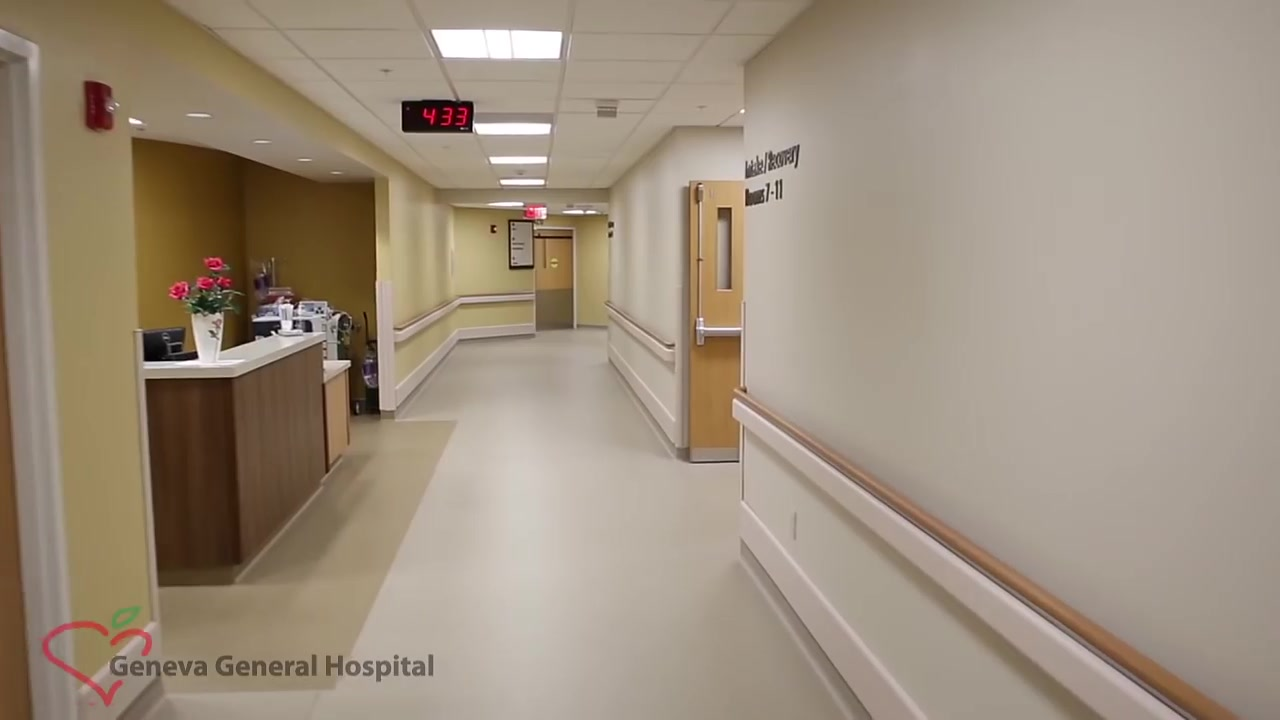cabinet: (134, 332, 353, 581)
computer: (143, 326, 186, 361)
countertop: (144, 332, 328, 377), (323, 360, 351, 384)
hallway_assist_bar: (731, 386, 1253, 720), (602, 300, 675, 362), (393, 294, 463, 342)
push_latch: (691, 318, 740, 349)
